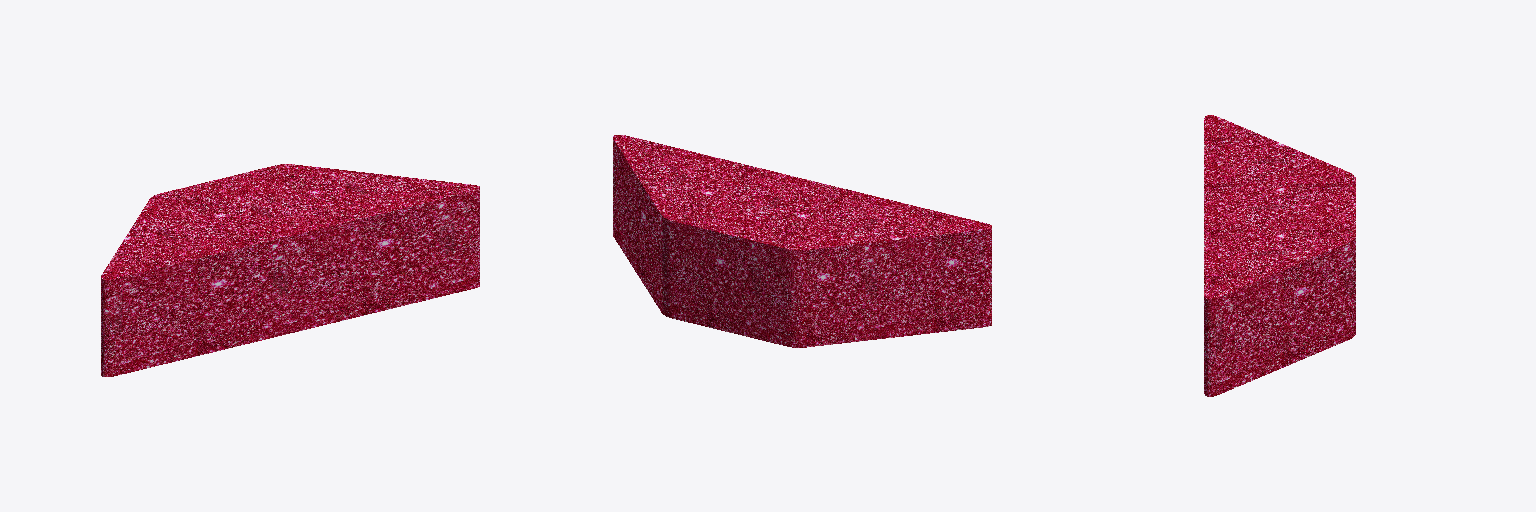
The picture shows the model from 3 angles: view 1: azimuth 30°, elevation 25°; view 2: azimuth 150°, elevation 25°; view 3: azimuth 270°, elevation 25°; orthographic projection.
Visible parts, largest first — view 1: desk_mesh[number redacted].032; view 2: desk_mesh[number redacted].032; view 3: desk_mesh[number redacted].032.
Part boxes in pixels (x1,y1,x2,y2): desk_mesh[number redacted].032: (101,164,479,376); desk_mesh[number redacted].032: (613,135,991,347); desk_mesh[number redacted].032: (1204,115,1355,396).
Size of the model in its own units: 0.0811 by 0.02 by 0.0283.
Materials: 1 (1 with a texture image).